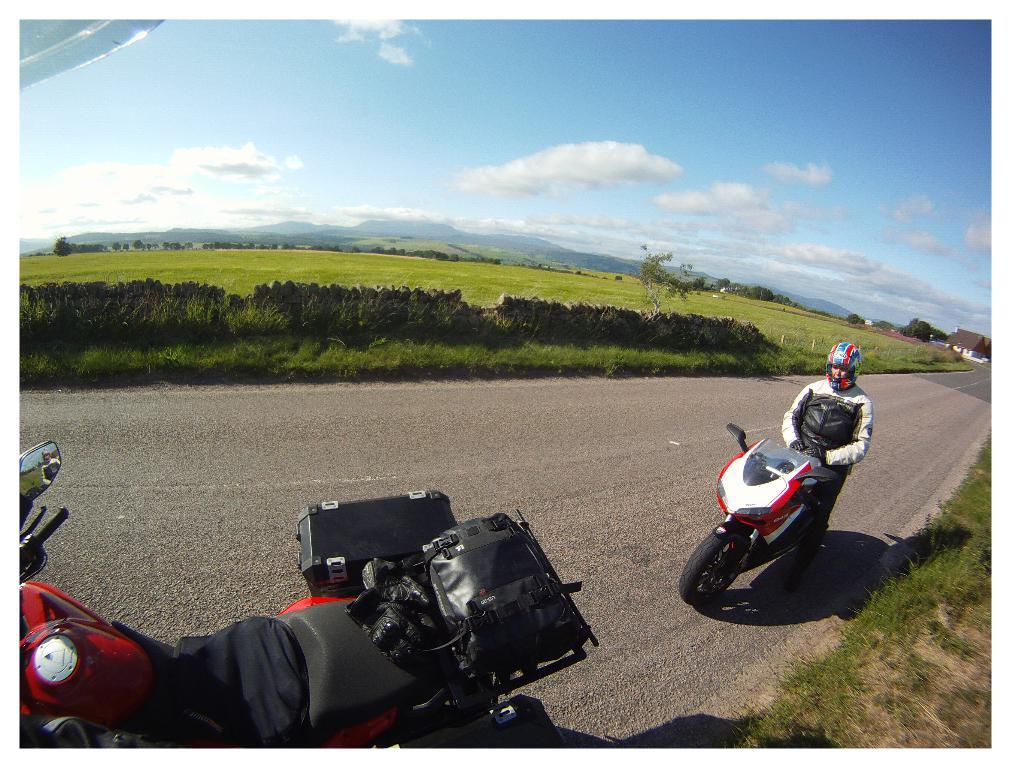helmet: (825, 341, 863, 391)
